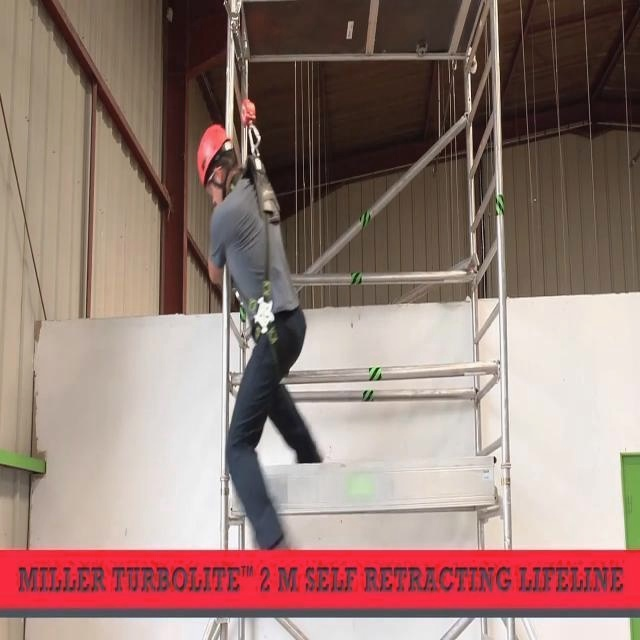safety belt: (229, 165, 277, 338)
